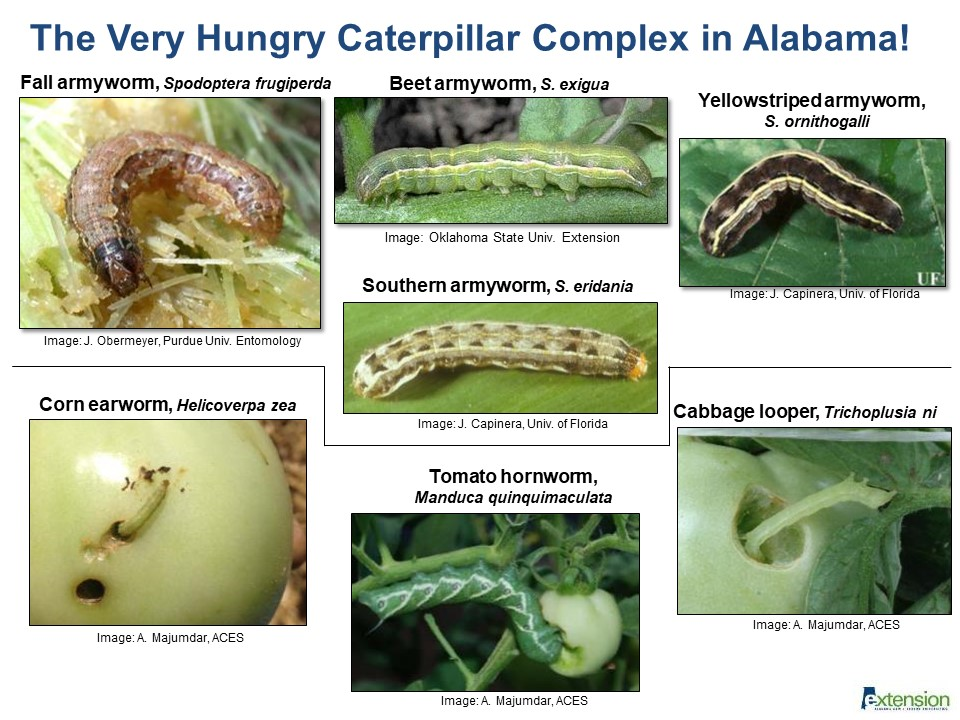Armyworm: (58, 130, 282, 287), (347, 318, 669, 409), (711, 150, 927, 272), (359, 552, 602, 655), (348, 138, 687, 209), (115, 455, 202, 559)
